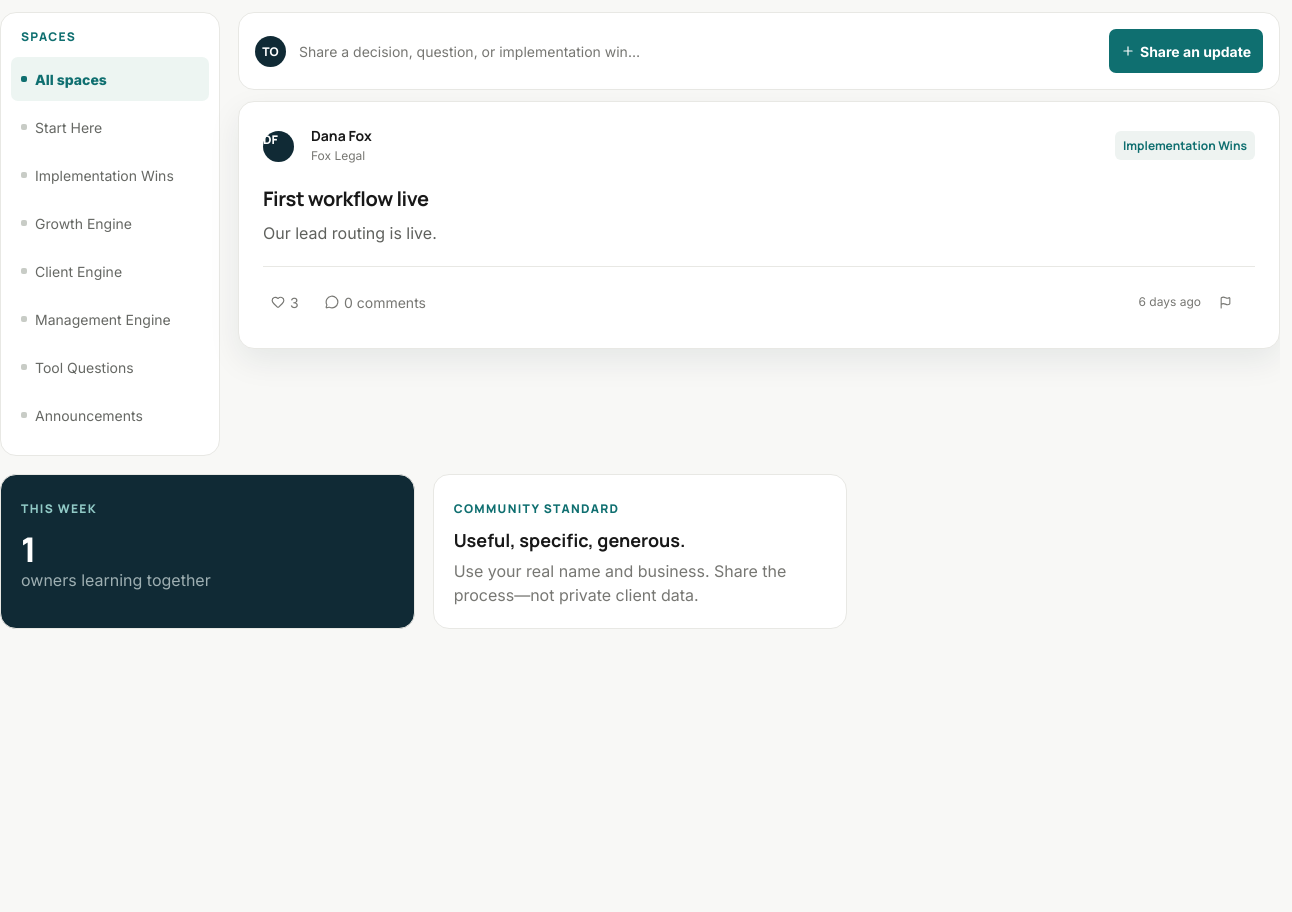
Test case: CommunityFeed › toggles a like optimistically and reconciles with the saved count
Step 1. Click the button "3" → click(285, 302), box [263,280,307,324]
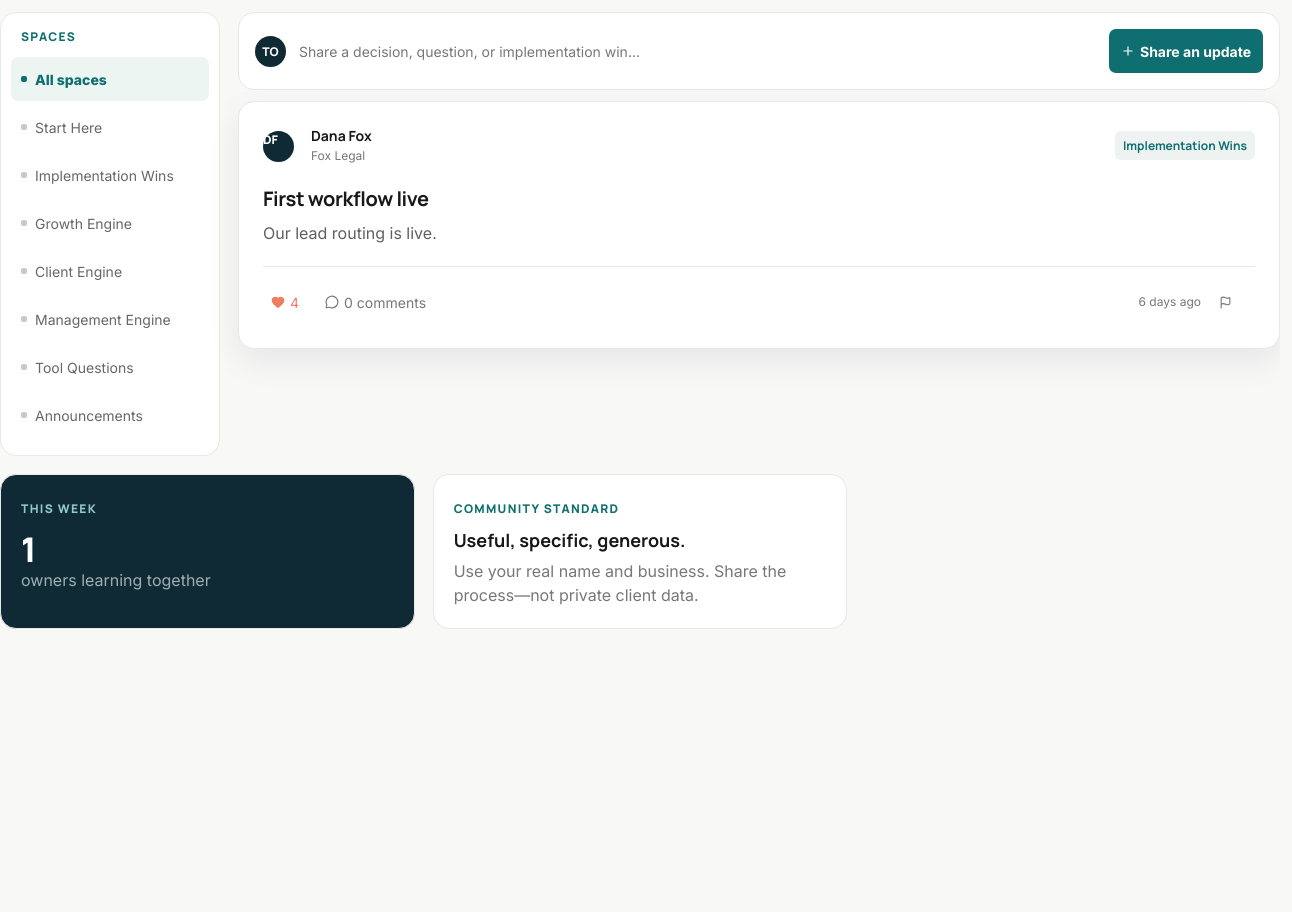
Expected: the button "4" is shown, [263,280,307,324]
